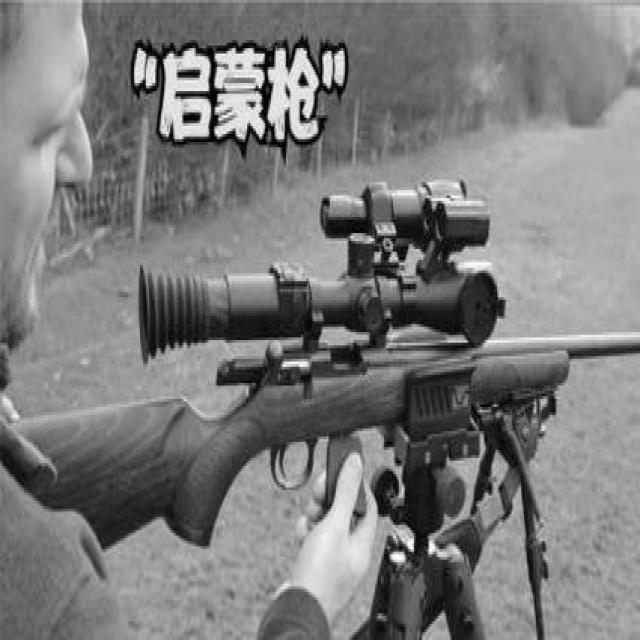gun: (0, 176, 638, 637)
